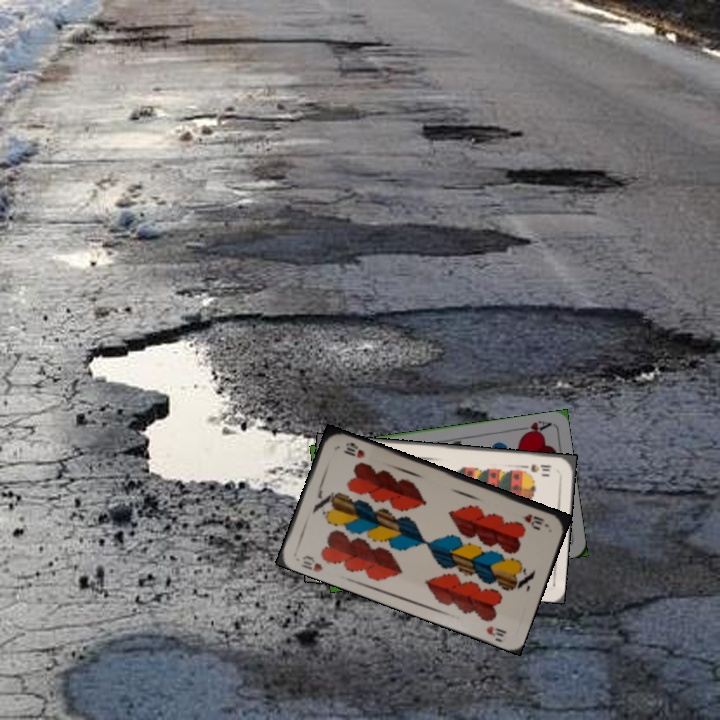H10: (298, 551, 325, 575), (517, 510, 547, 527)
HA: (512, 416, 553, 439)
S10: (518, 460, 554, 475)
